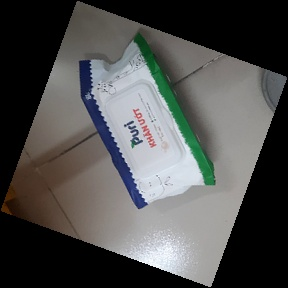Puri Trang: (76, 32, 218, 211)
